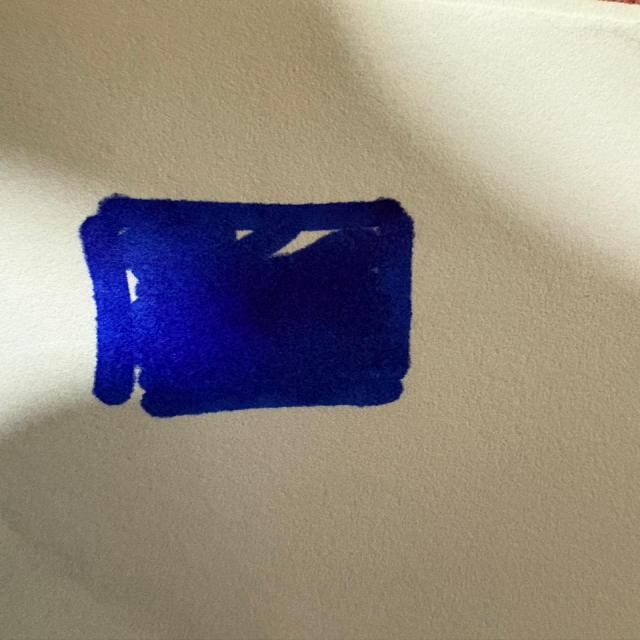Square: (71, 184, 422, 418)
